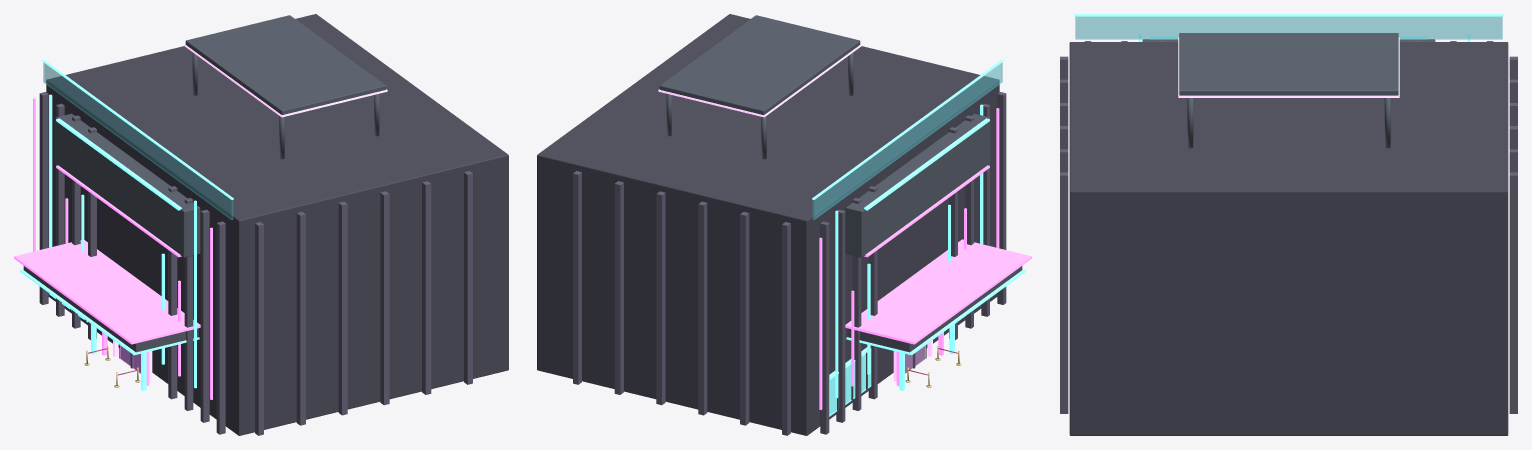
Rendered from building_club_neon.glb.
The picture shows the model from 3 angles, left to right: view 1: azimuth 30°, elevation 25°; view 2: azimuth 150°, elevation 25°; view 3: azimuth 270°, elevation 25°; orthographic projection. The views are drawn at different scales.
Visible parts, largest first — view 1: ClubCore; view 2: ClubCore; view 3: ClubCore.
Part boxes in pixels (left/top/right/bottom): ClubCore: left=14, top=14, right=508, bottom=435; ClubCore: left=537, top=14, right=1031, bottom=435; ClubCore: left=1060, top=14, right=1517, bottom=435.
Bounding box in the file's own units: 24.4 × 18.37 × 25.05.
